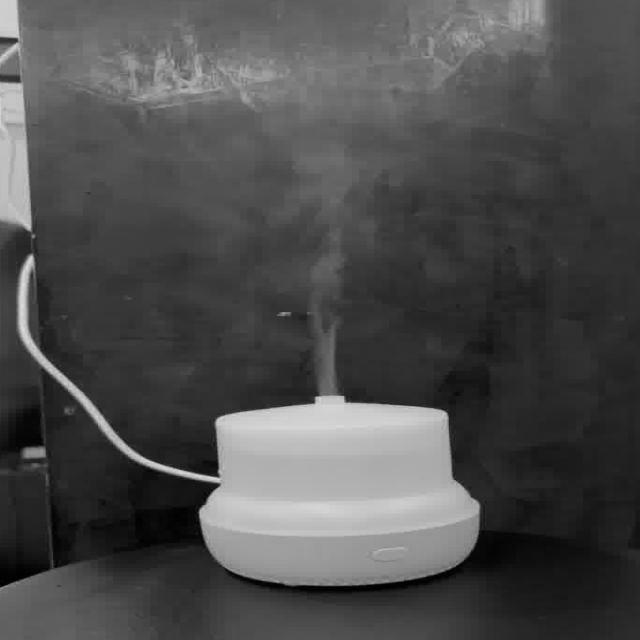fire: (300, 150, 360, 391)
